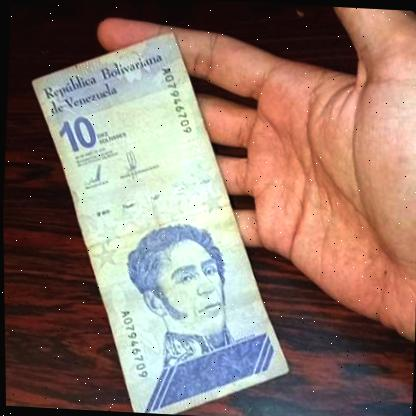ten-front-vef: (8, 26, 307, 416)
